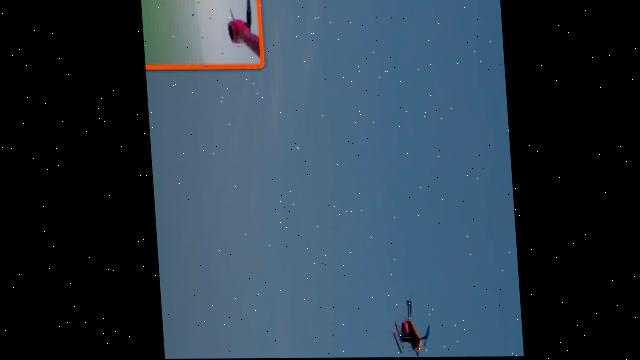drone: (140, 0, 413, 359)
